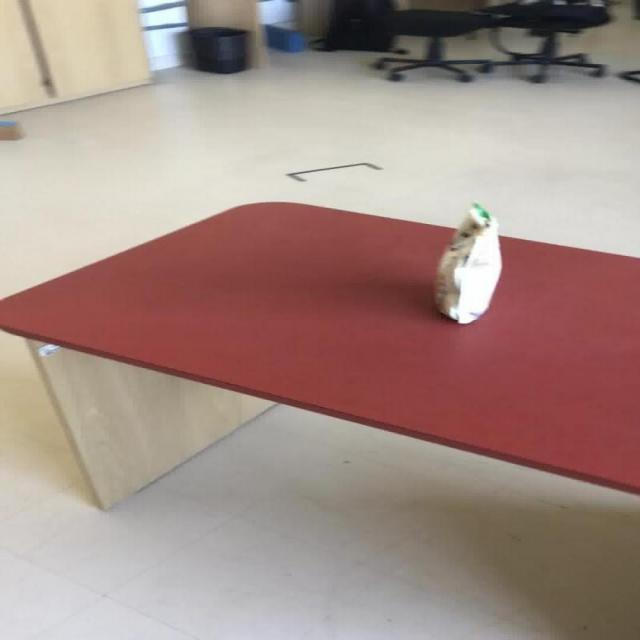CornFlakes: (431, 201, 502, 324)
